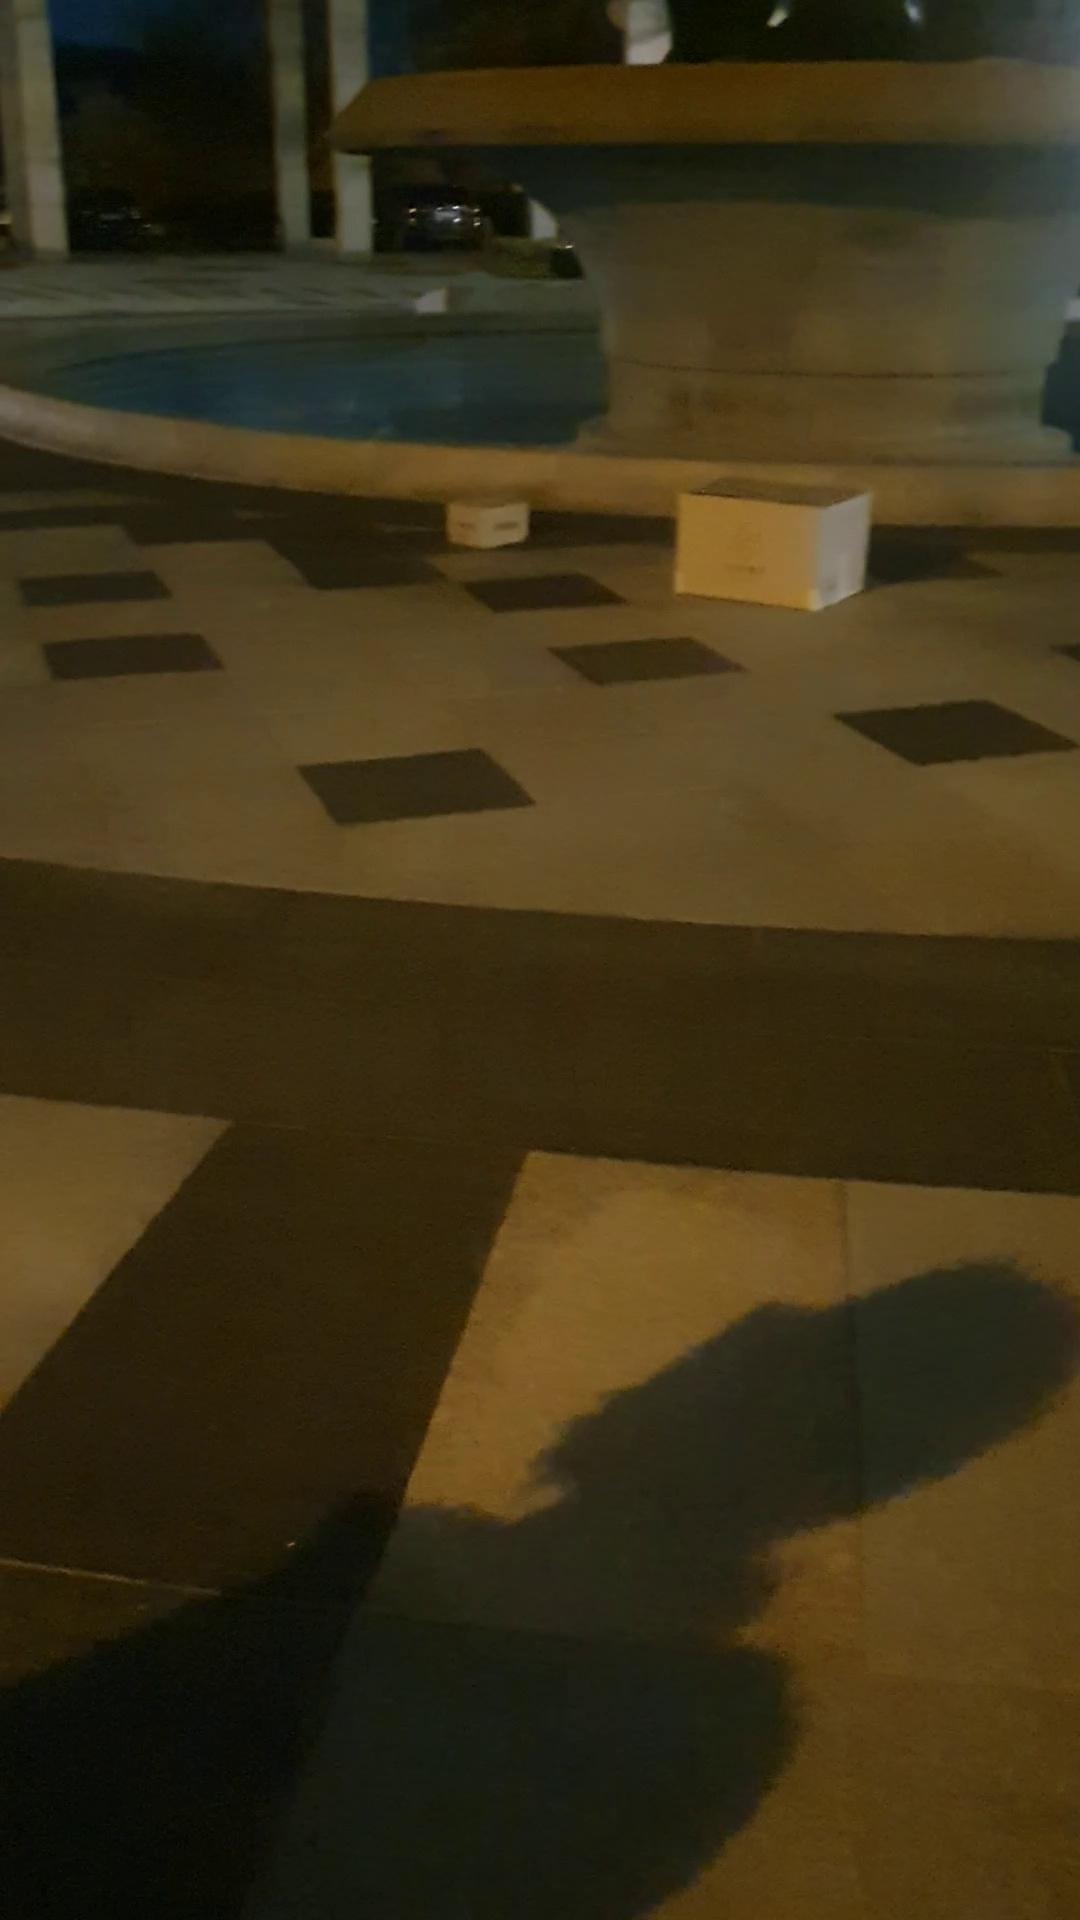Box: (647, 440, 866, 612), (440, 468, 549, 563)
